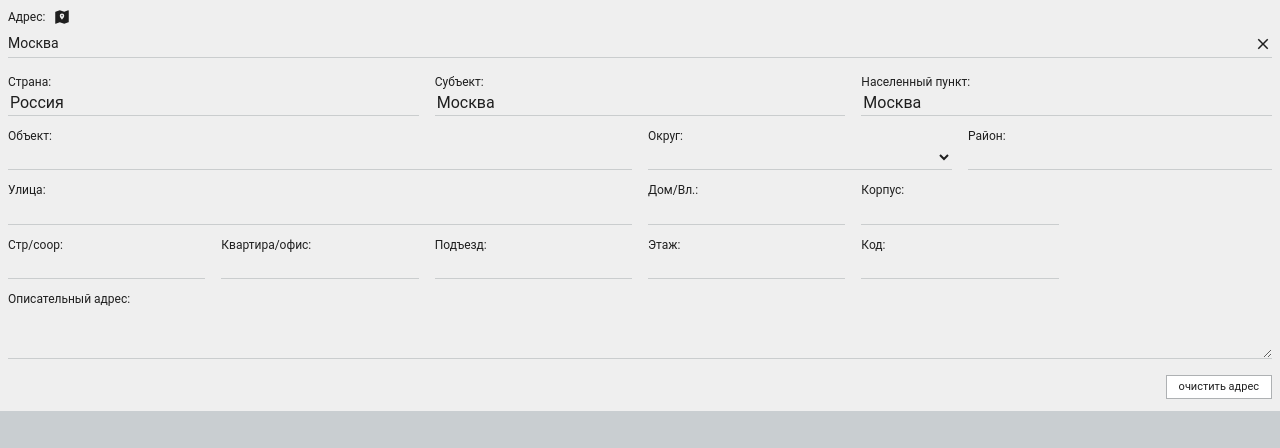
Test: Operator112AddressField › нет совпадений — подсказка про ручной ввод; ввод не блокируется
This screenshot has width=1280, height=448.
Type "Абракадабра" into the dropdown labelled "Улица:" at (320, 212), box [8,199,632,225]
Wait 260 ms
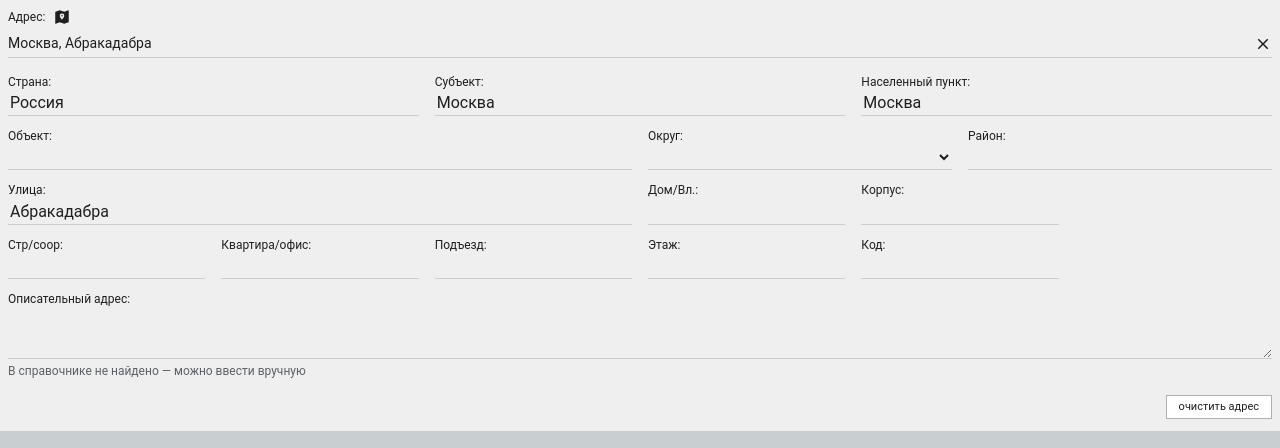
Expected: the text "В справочнике не найдено — можно ввести вручную" is shown, [8,364,306,378]
